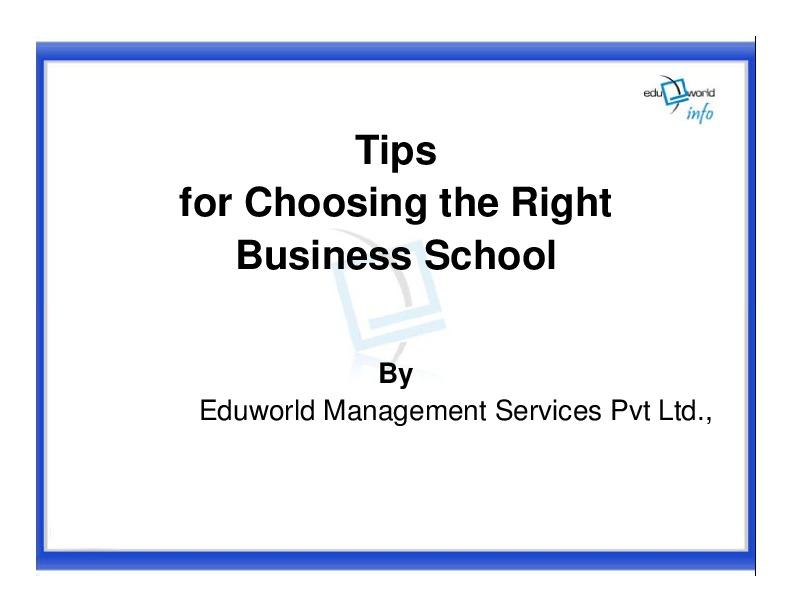subtitle: (188, 349, 735, 458)
title: (160, 100, 657, 339)
